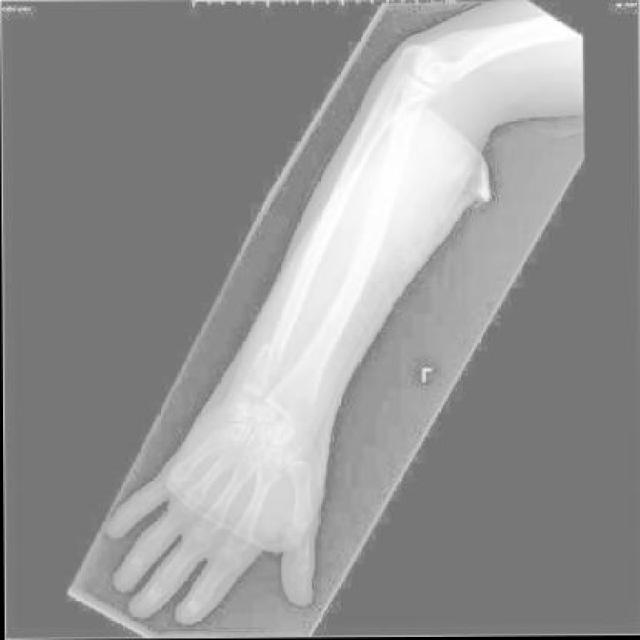Fracture: (248, 348, 279, 382)
